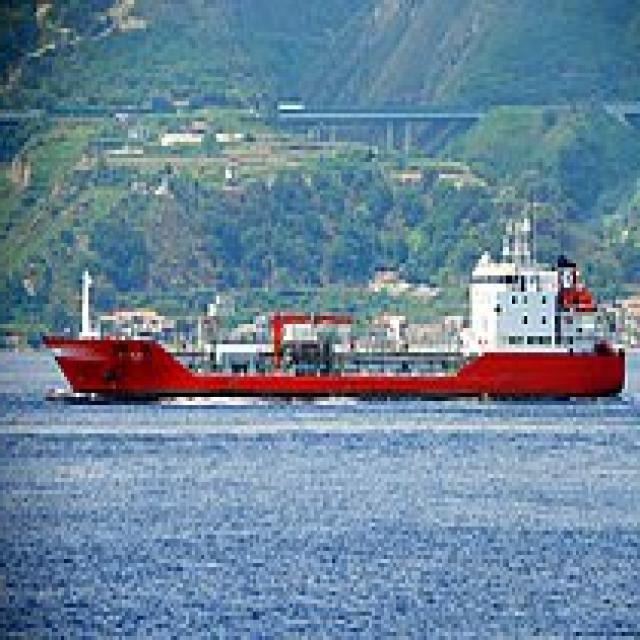Tanker: (40, 247, 634, 397)
